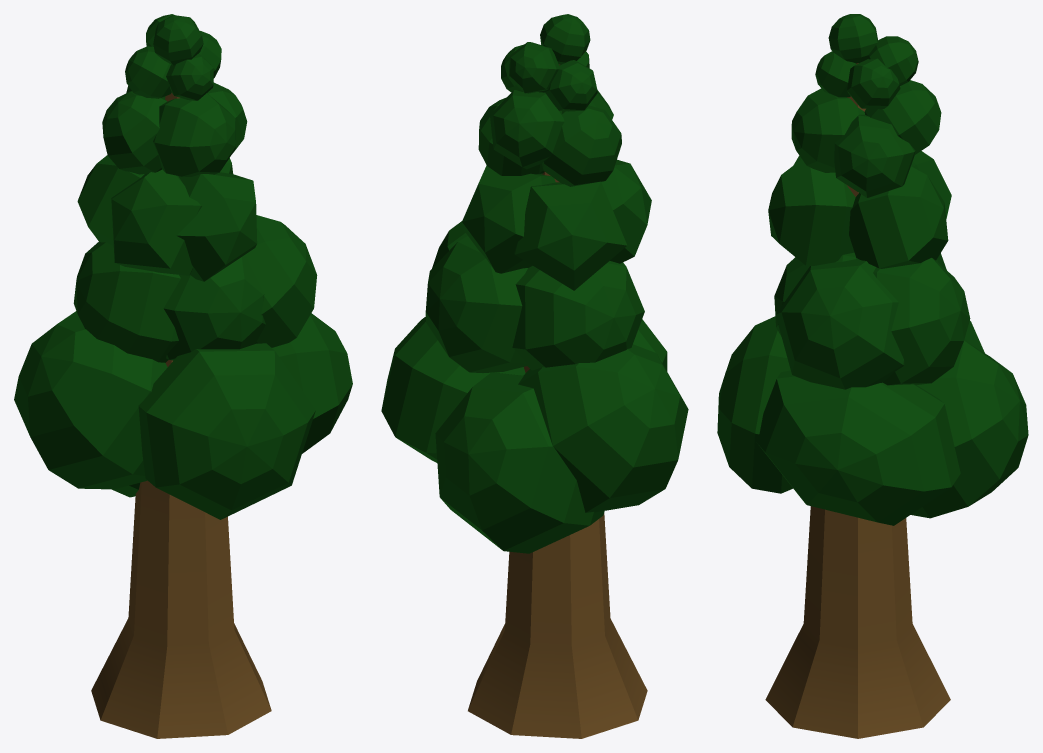
The model's file is asset_BigTree_02.fbx.
The picture shows the model from 3 angles, left to right: view 1: azimuth 30°, elevation 25°; view 2: azimuth 150°, elevation 25°; view 3: azimuth 270°, elevation 25°; orthographic projection.
Parts seen in each view (by area): view 1: Big_Tree_02; view 2: Big_Tree_02; view 3: Big_Tree_02.
Boxes of the visible parts, x1=… form: Big_Tree_02: x1=14, y1=14, x2=352, y2=738; Big_Tree_02: x1=381, y1=14, x2=688, y2=738; Big_Tree_02: x1=717, y1=14, x2=1028, y2=738.
Bounding box in the file's own units: 227 × 507 × 210.
